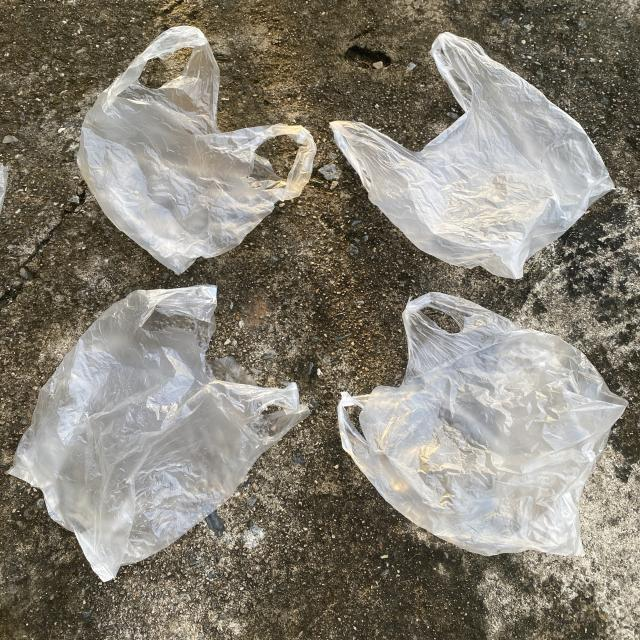Single-layer Plastic: (9, 285, 309, 581), (338, 292, 626, 556), (330, 32, 614, 279), (78, 26, 316, 274)
